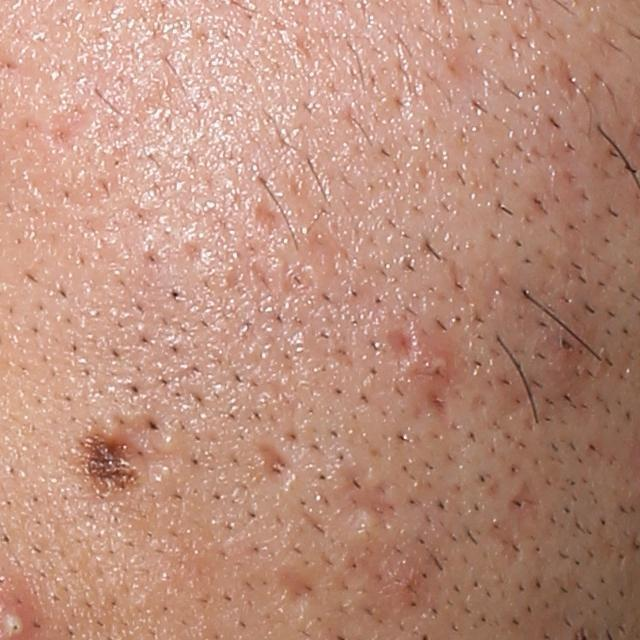atrophic_scar: (484, 475, 549, 568), (338, 472, 393, 535), (274, 566, 327, 618), (43, 103, 96, 150), (256, 445, 298, 491), (559, 50, 585, 107), (254, 199, 291, 233), (387, 328, 418, 362)
nevus: (63, 425, 151, 504)
papule: (417, 344, 457, 389)
